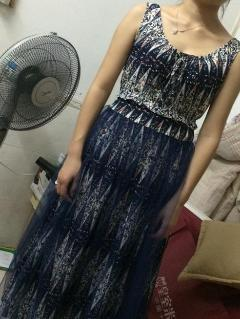vest: (0, 2, 240, 319)
